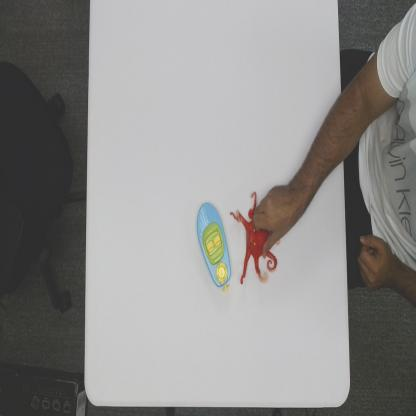Arm: (297, 82, 347, 223)
Boat: (196, 201, 233, 293)
Hand: (251, 184, 298, 260)
Octopus: (229, 190, 282, 286)
